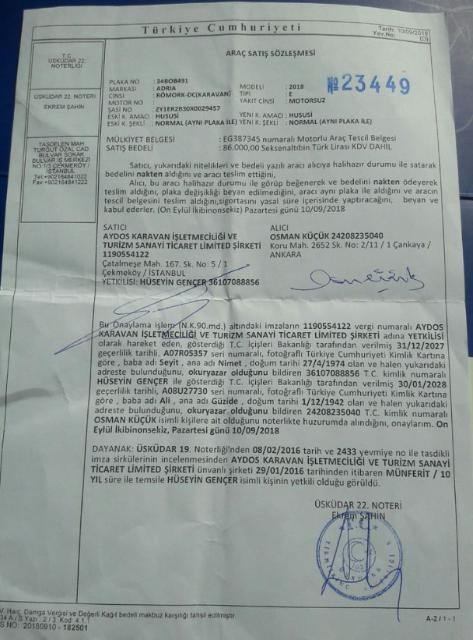stamp: (316, 512, 403, 602)
